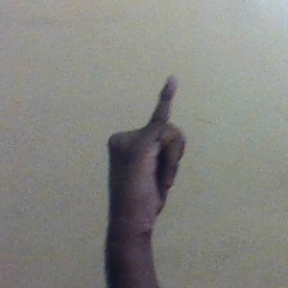I: (104, 72, 192, 233)
